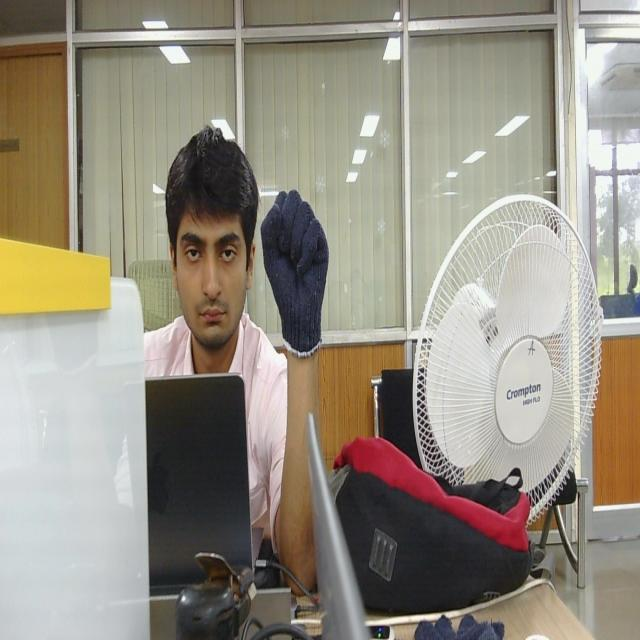Gloves-Detection: (260, 186, 333, 356)
